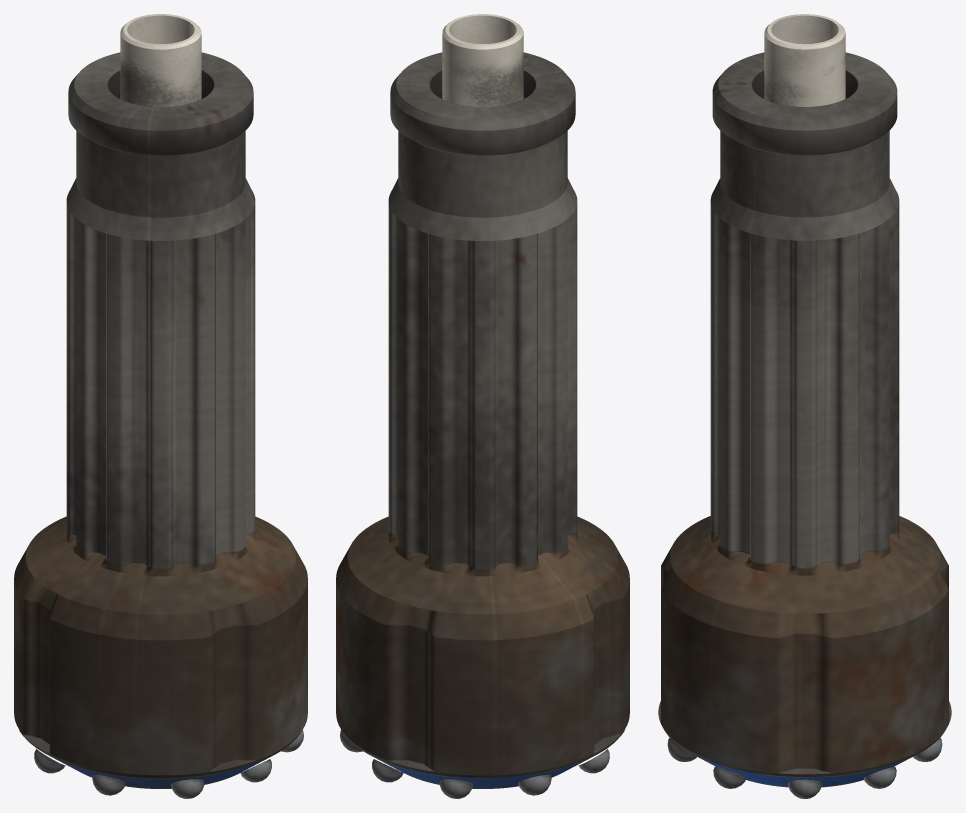
Rendered from SM_Bit_6po.glb.
3 views of the same model, side by side, from view 1: azimuth 30°, elevation 25°; view 2: azimuth 150°, elevation 25°; view 3: azimuth 270°, elevation 25° (orthographic).
Visible parts, largest first — view 1: Bit_6po, Bit_6po_TubeDePied, Bit_6po_Boutons; view 2: Bit_6po, Bit_6po_TubeDePied, Bit_6po_Boutons; view 3: Bit_6po, Bit_6po_TubeDePied, Bit_6po_Boutons.
Boxes of the visible parts, box(x1,y1,x2,y2) form: Bit_6po: box(14, 52, 307, 788); Bit_6po_TubeDePied: box(120, 14, 201, 106); Bit_6po_Boutons: box(19, 730, 303, 798); Bit_6po: box(336, 52, 629, 788); Bit_6po_TubeDePied: box(442, 14, 523, 106); Bit_6po_Boutons: box(340, 730, 624, 798); Bit_6po: box(658, 52, 951, 787); Bit_6po_TubeDePied: box(764, 14, 845, 106); Bit_6po_Boutons: box(667, 737, 942, 798).
Bounding box in the file's own units: 0.1524 × 0.4162 × 0.1524.
3 materials, 3 textured.
